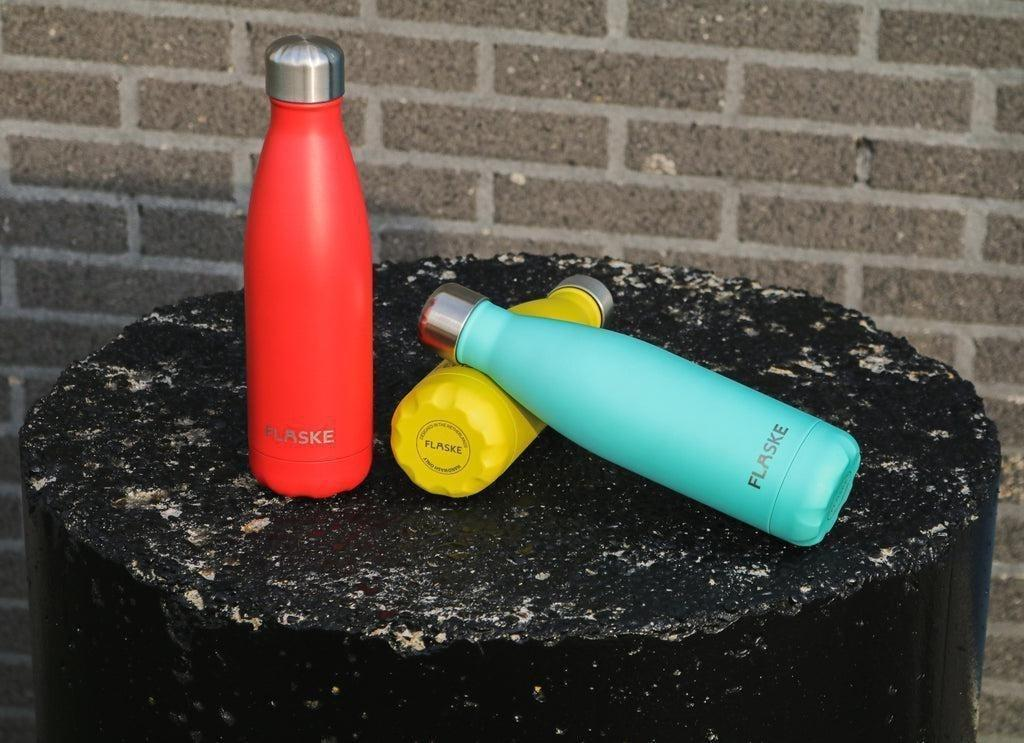gym bottle: (418, 275, 860, 548), (240, 34, 378, 499), (389, 274, 613, 498)
